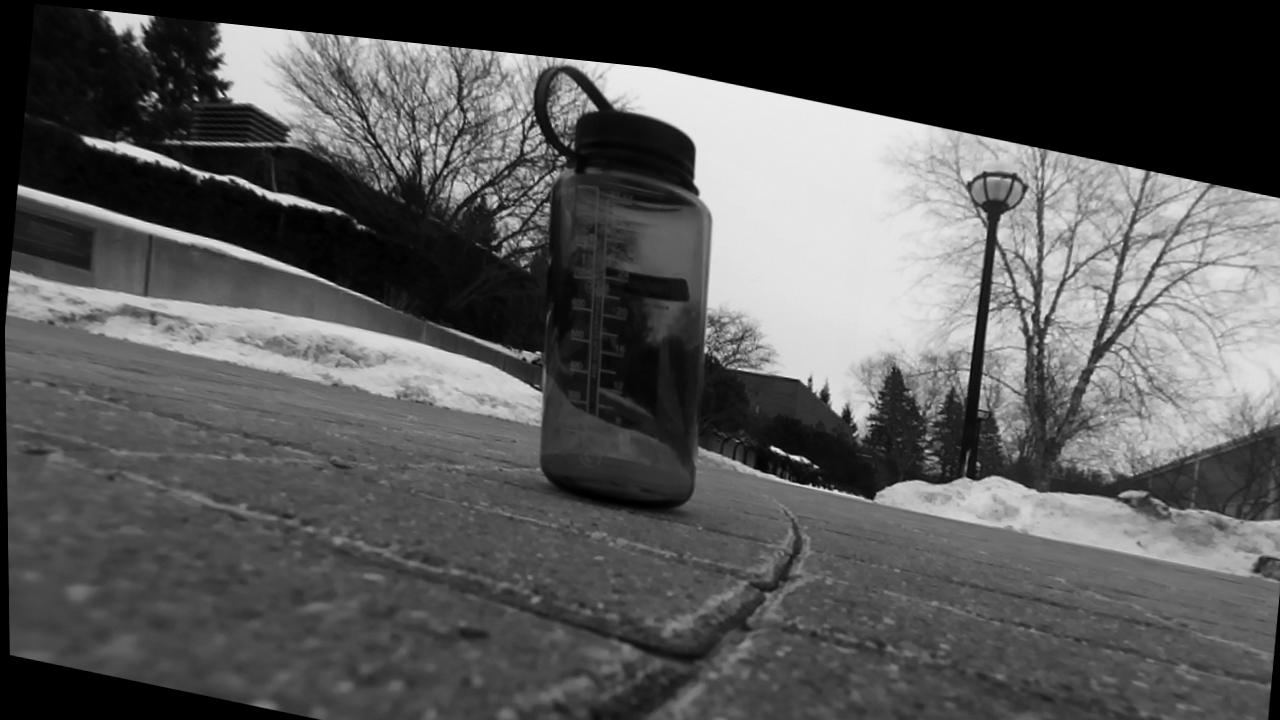bottle: (533, 66, 711, 506)
